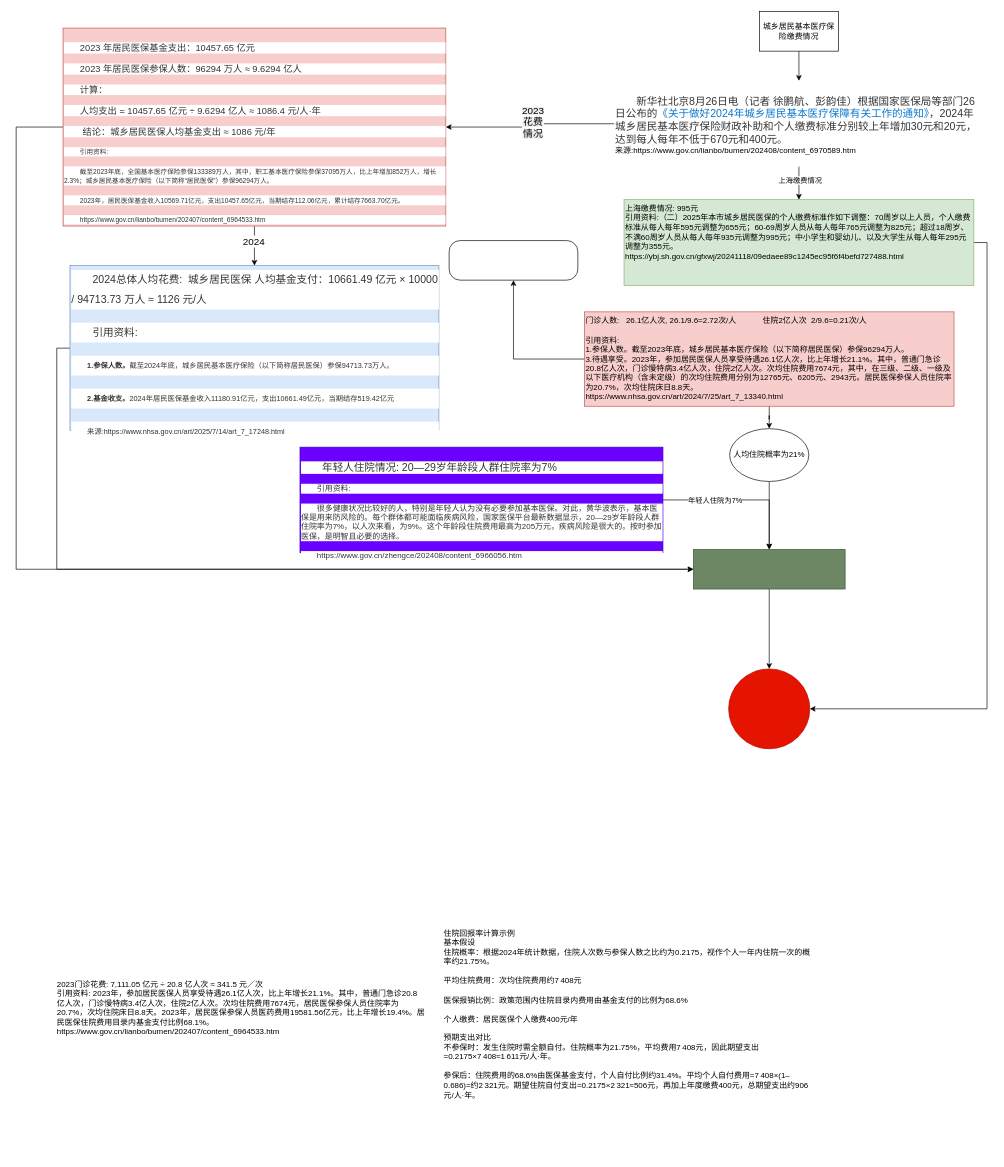
Image size: 1004x1167. Some labels were removed from this diagram. Each missing label, with the centre of its shape:
"推断: 年轻人就诊概率为平均概率的1/3 年轻人看病支出为1000/3=333元" goes at [769,569].
"泊松分布:1 - e^-2.72=0.93 1 - e^-0.21=0.189 人均至少一次住院概率为18.9%" goes at [513,260].
"结论: 年轻人医保在上海数学期望是亏的, 其他地区大概率也亏" goes at [769,708].
